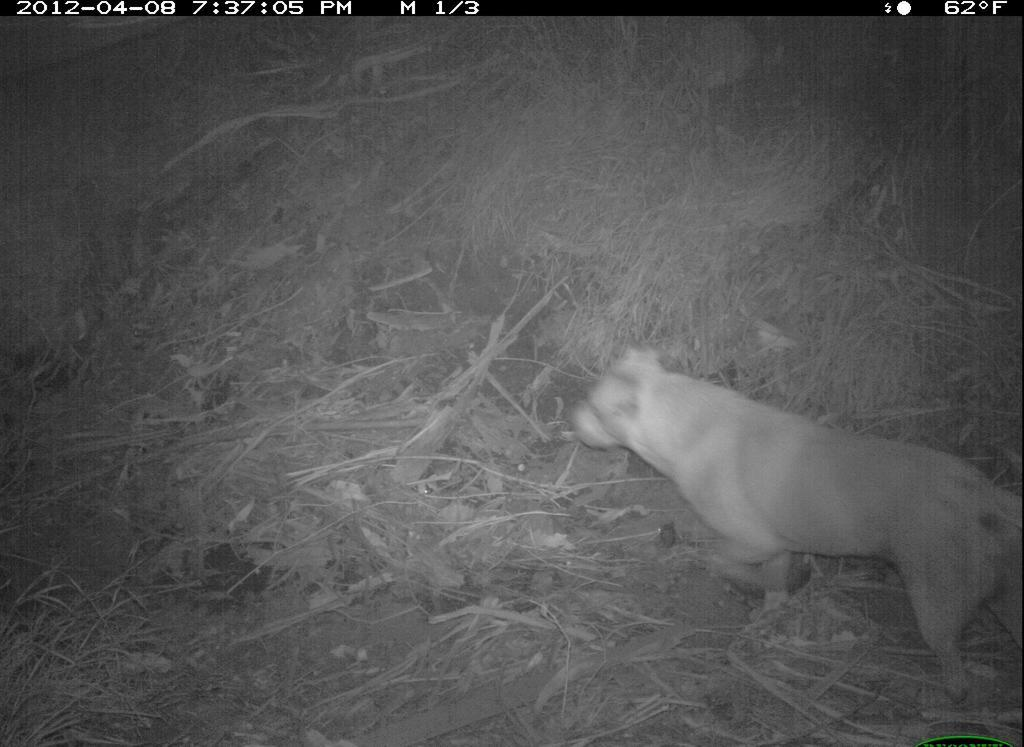dog: (565, 338, 1019, 717)
